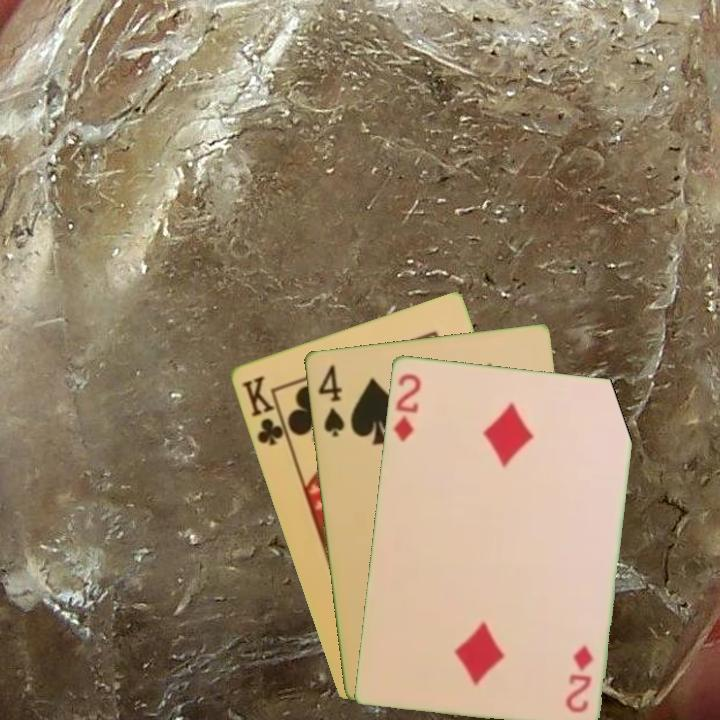2d: (389, 369, 424, 444), (563, 640, 596, 715)
4s: (314, 360, 347, 440)
Kc: (237, 372, 291, 449)
